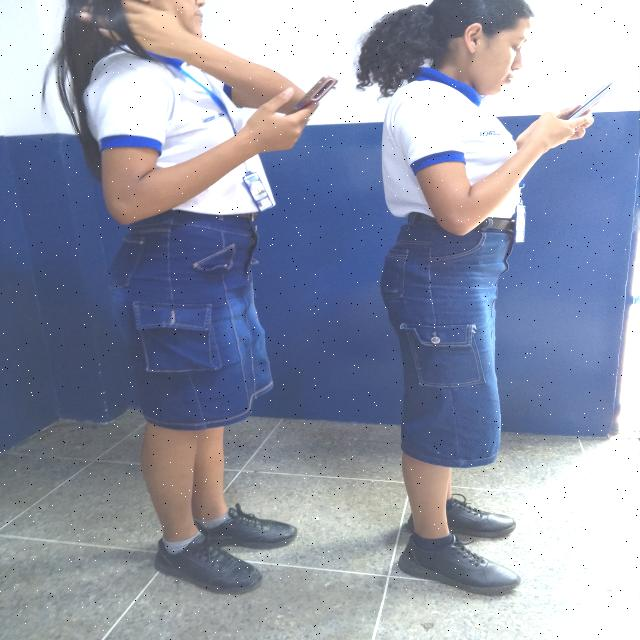carnet: (243, 170, 274, 212), (514, 206, 528, 243)
uniforme_superior: (83, 44, 270, 215), (381, 67, 521, 219)
